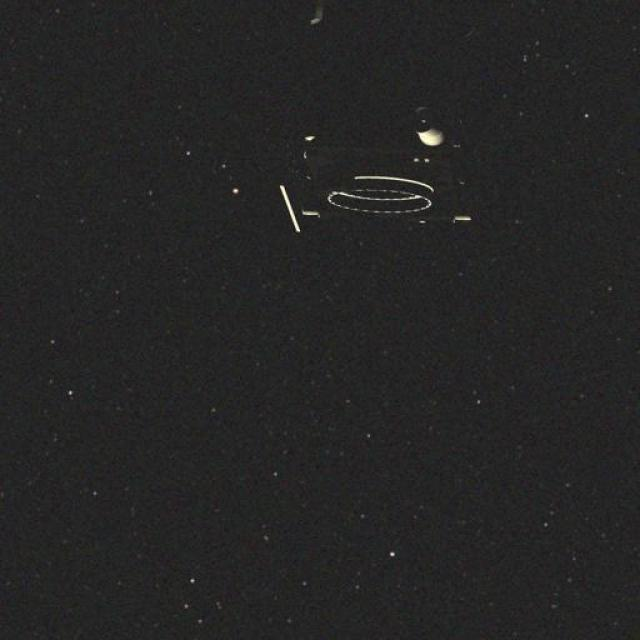proba_3_csc: (241, 0, 494, 286)
